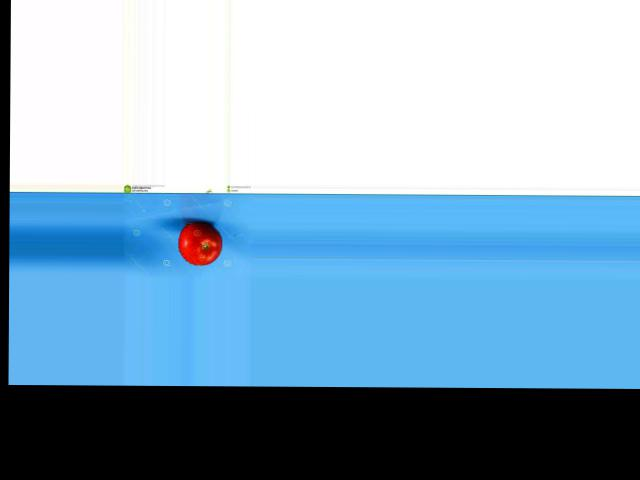tomato: (178, 222, 223, 265)
